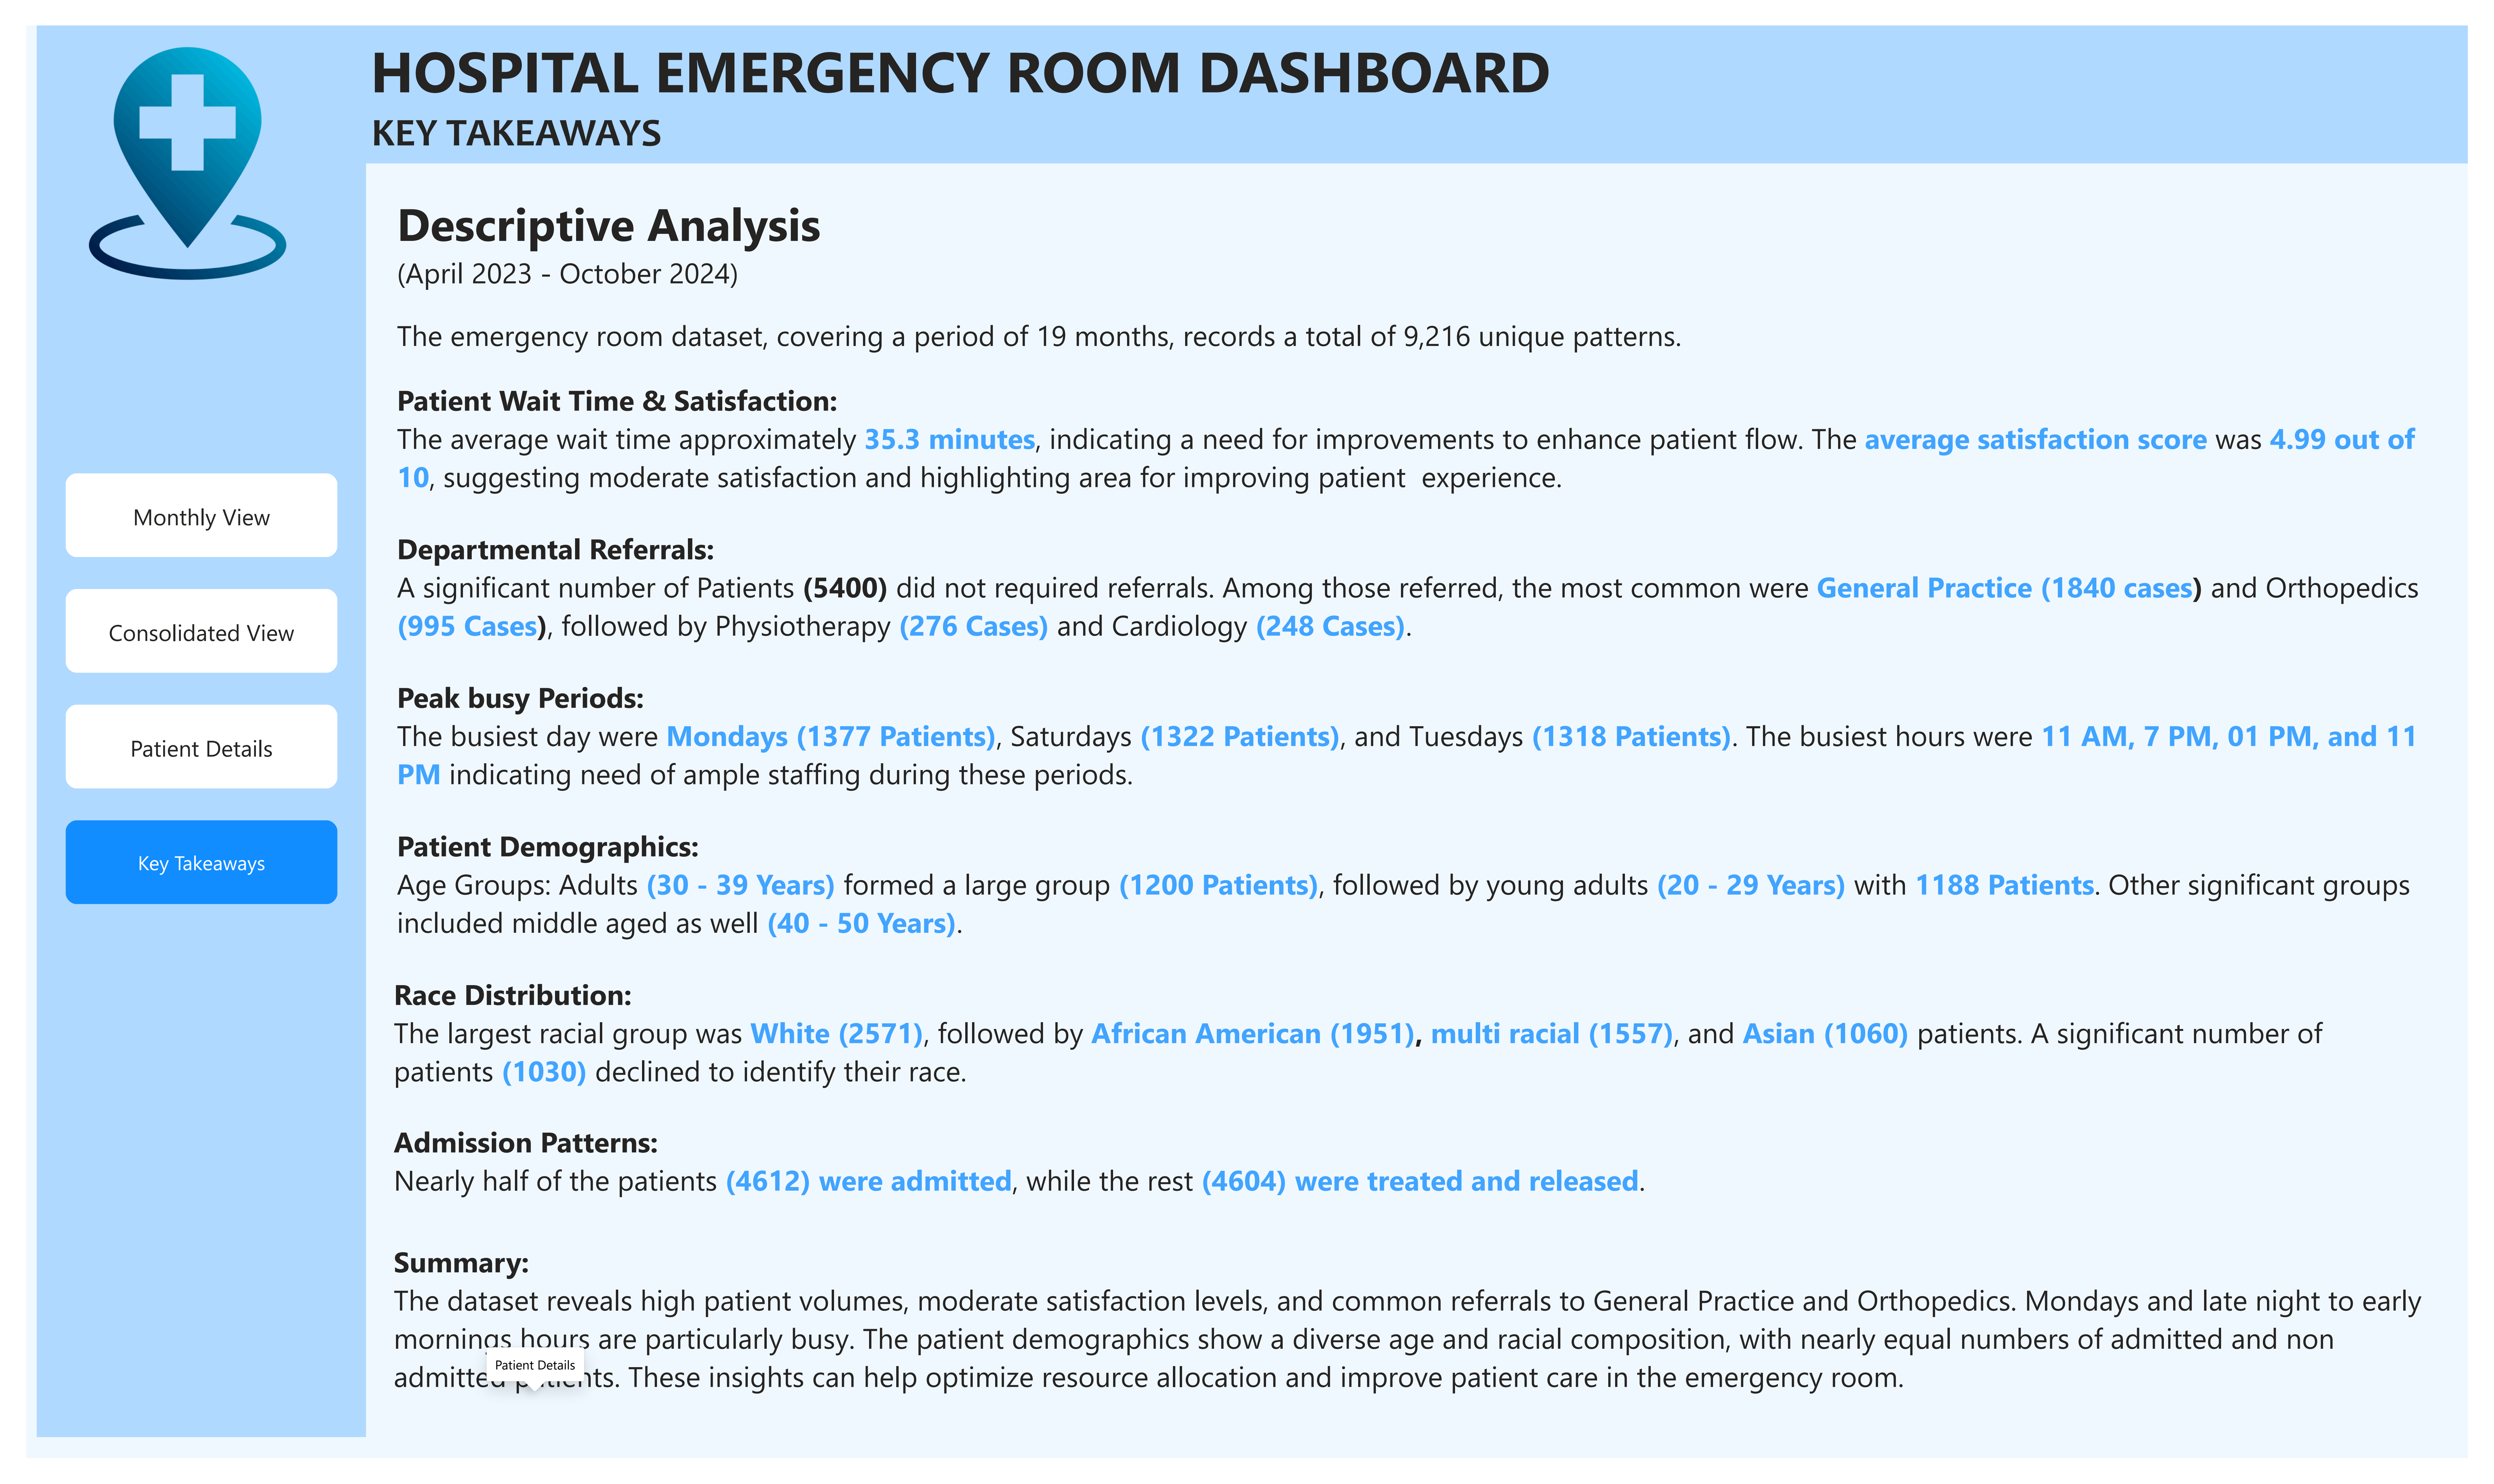

This screenshot's page, from the dashboard's own definition file:
{"tool":"powerbi","page":{"name":"Key Takeaways","canvas":[2300,1350],"ordinal":3},"visuals":[{"type":"shape","box":[10,0,310,1330],"z":0},{"type":"shape","box":[320,0,2080,130],"z":1000},{"type":"textbox","box":[319.1,0,1165.9,93.3],"z":2000},{"type":"textbox","box":[320,72,320,58],"z":3000},{"type":"image","box":[42,20,220,220],"z":4000},{"type":"pageNavigator","box":[36.8,422.2,256,408],"z":5000},{"type":"textbox","box":[343.6,152.2,454.1,115.4],"z":6000},{"type":"textbox","box":[343.6,267.5,1602.8,61.4],"z":7000},{"type":"textbox","box":[343.6,328.9,1924.4,139.9],"z":8000},{"type":"textbox","box":[343.6,468.8,1924.4,139.9],"z":9000},{"type":"textbox","box":[343.6,608.7,1924.4,139.9],"z":10000},{"type":"textbox","box":[343.6,748.6,1924.4,139.9],"z":11000},{"type":"textbox","box":[341.2,888.5,1926.8,139.9],"z":12000},{"type":"textbox","box":[341.2,1028.5,1926.8,139.9],"z":13000},{"type":"textbox","box":[341.2,1141.4,1926.8,184.1],"z":14000}]}

Visuals, with their boxes in screenshot pixels (x1, y1, x2, y2):
shape: left=127, top=78, right=459, bottom=1484
shape: left=459, top=78, right=2494, bottom=217
textbox: left=458, top=78, right=1705, bottom=178
textbox: left=459, top=155, right=801, bottom=217
image: left=162, top=99, right=397, bottom=334
pageNavigator: left=156, top=529, right=430, bottom=965
textbox: left=484, top=241, right=970, bottom=364
textbox: left=484, top=364, right=2198, bottom=430
textbox: left=484, top=430, right=2494, bottom=579
textbox: left=484, top=579, right=2494, bottom=729
textbox: left=484, top=729, right=2494, bottom=878
textbox: left=484, top=878, right=2494, bottom=1028
textbox: left=482, top=1028, right=2494, bottom=1177
textbox: left=482, top=1177, right=2494, bottom=1327
textbox: left=482, top=1298, right=2494, bottom=1484
